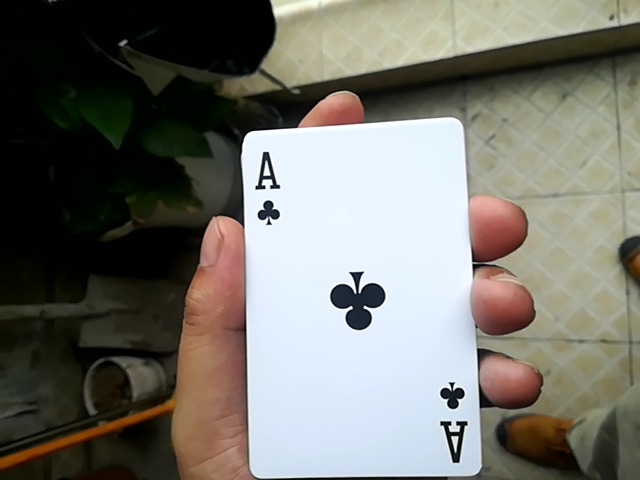mh a: (226, 108, 471, 479)
